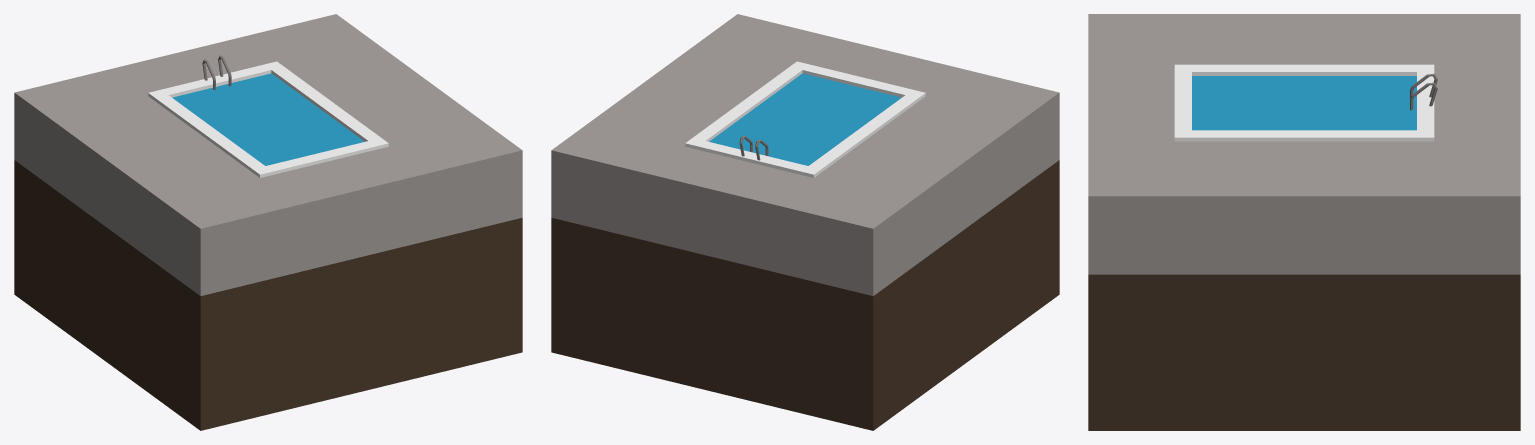
Rendered from tiles_tile-pool-small.fbx.
3 renders of one model, left to right at view 1: azimuth 30°, elevation 25°; view 2: azimuth 150°, elevation 25°; view 3: azimuth 270°, elevation 25°, orthographic. The views are drawn at different scales.
Visible parts, largest first — view 1: tiles_tile_pool_small; view 2: tiles_tile_pool_small; view 3: tiles_tile_pool_small.
Boxes of the visible parts, left/top/right/bottom form: tiles_tile_pool_small: left=14, top=14, right=522, bottom=430; tiles_tile_pool_small: left=551, top=14, right=1059, bottom=430; tiles_tile_pool_small: left=1088, top=14, right=1520, bottom=430.
Size of the model in its own units: 200 by 134 by 200.
